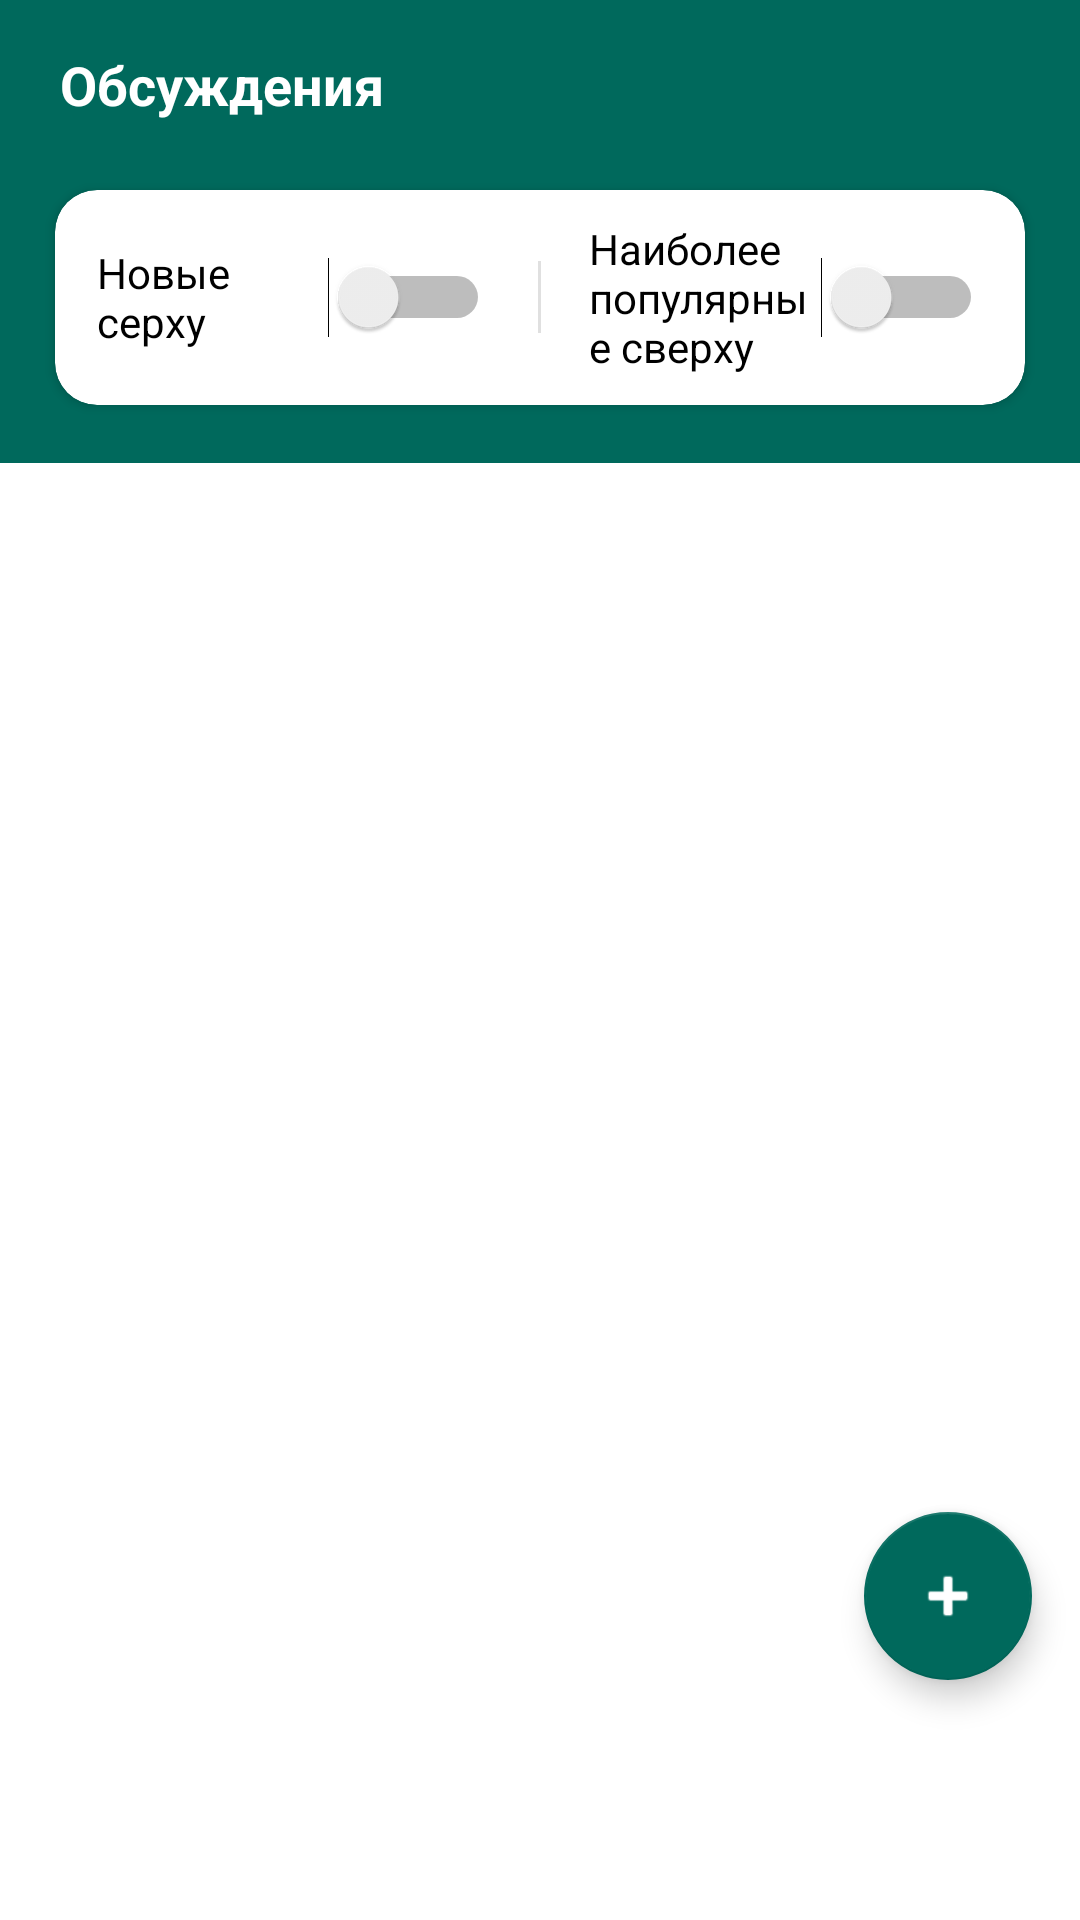

Named icons in this screenshot (1080px×1920px) and their centers, [x,y]:
Создать проект: [948,1596]
